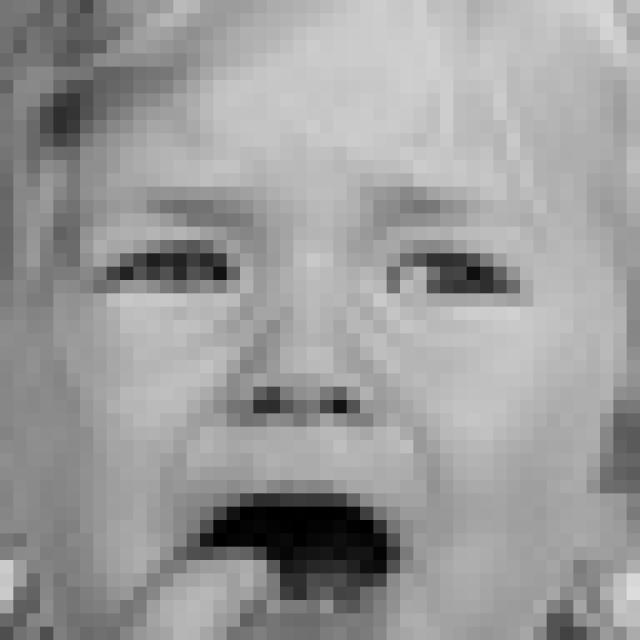sad: (76, 170, 541, 640)
